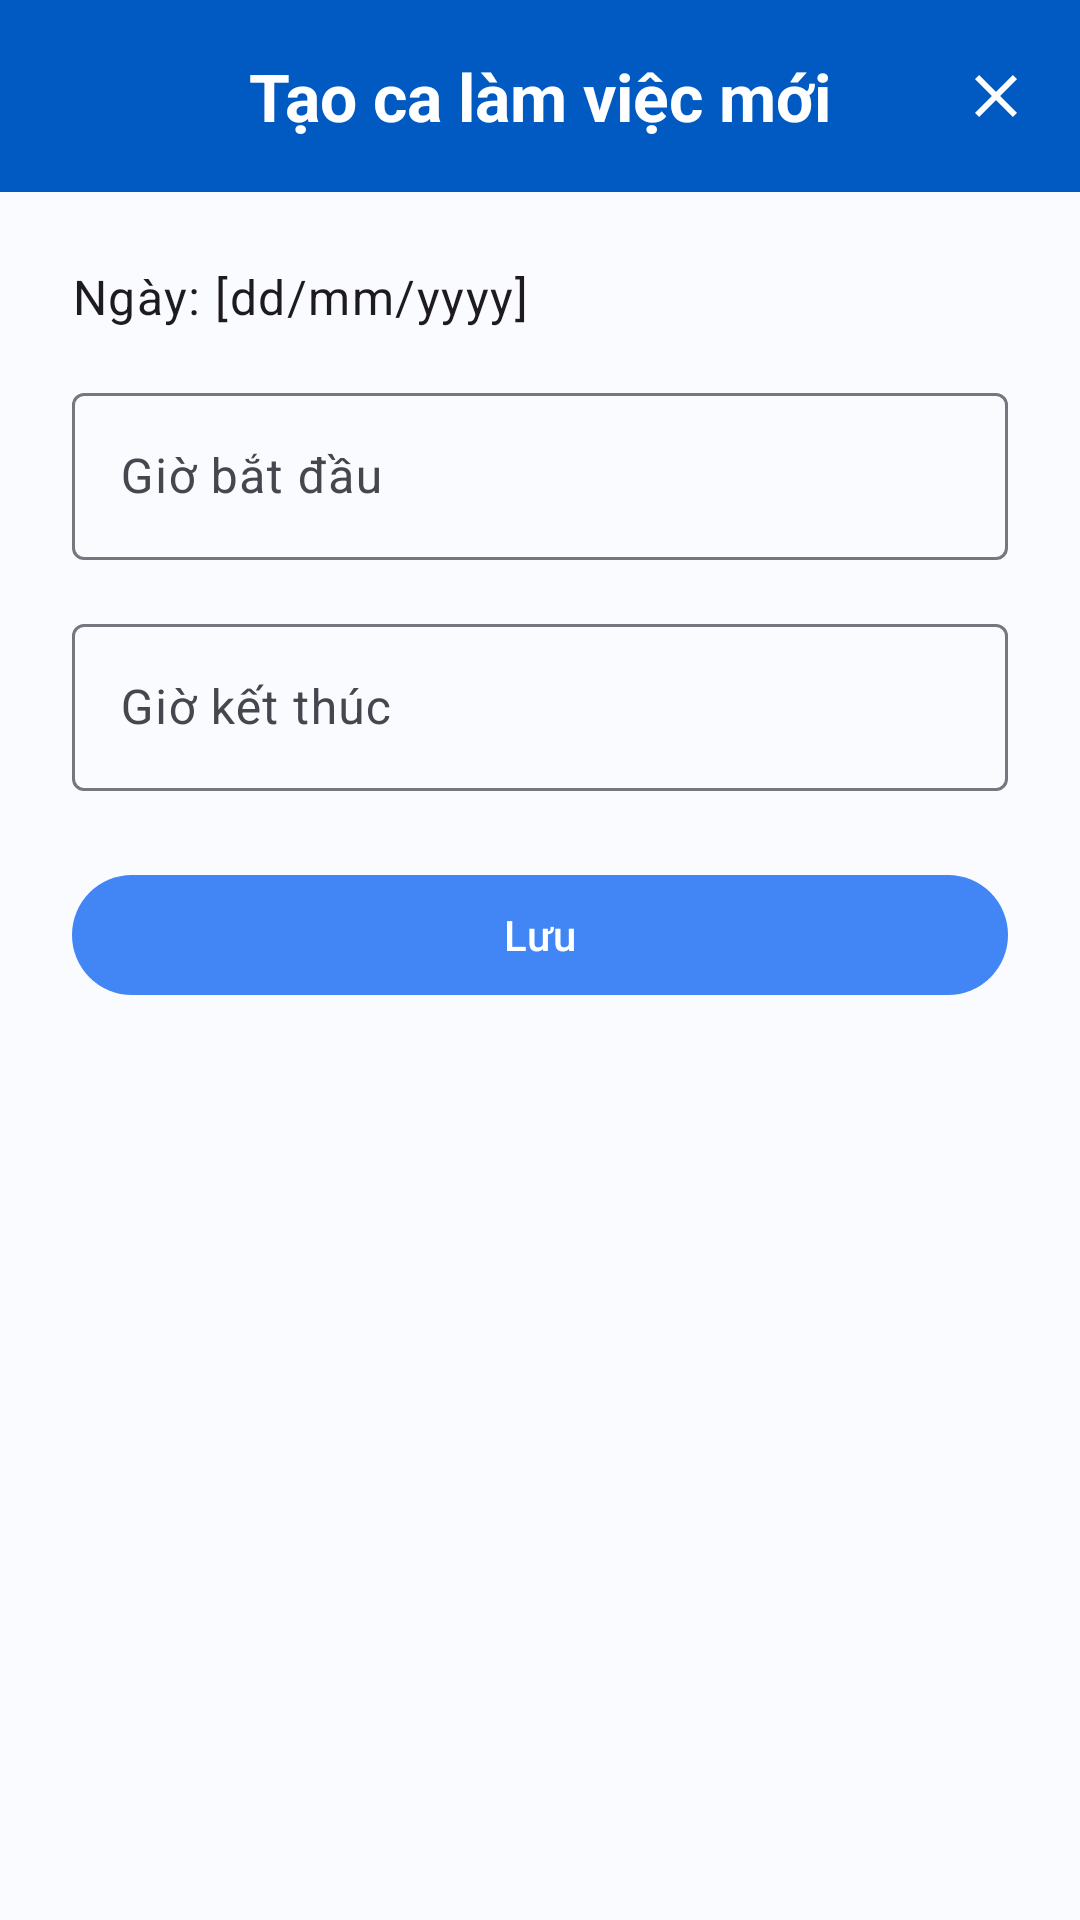

Named icons in this screenshot (1080px x 1920px) and their bounding boxes, {"x1": x1, "y1": y1, "x2": x2, "y2": y2}:
Đóng: {"x1": 975, "y1": 75, "x2": 1017, "y2": 117}
